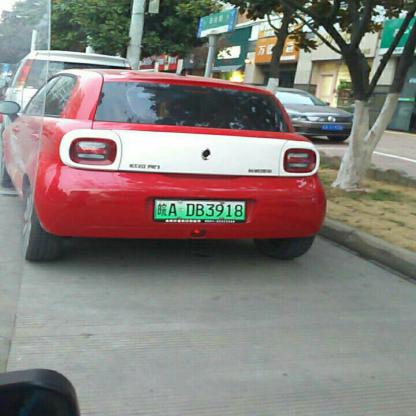lp: (155, 197, 247, 219)
